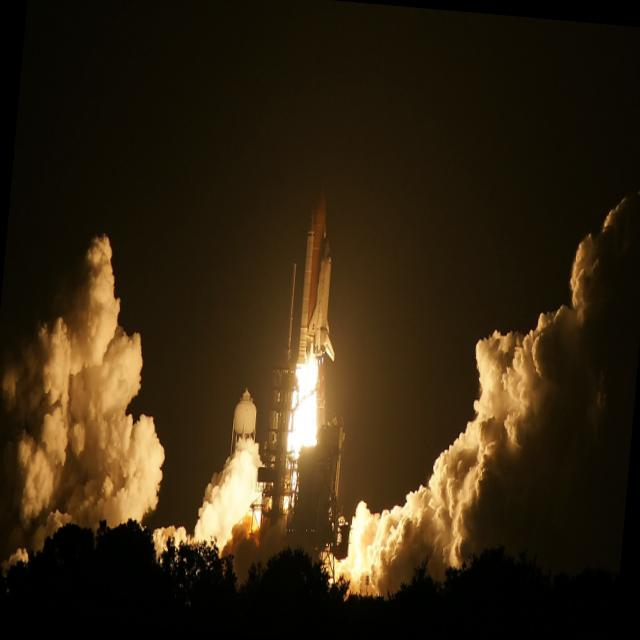rocket: (284, 186, 352, 463)
